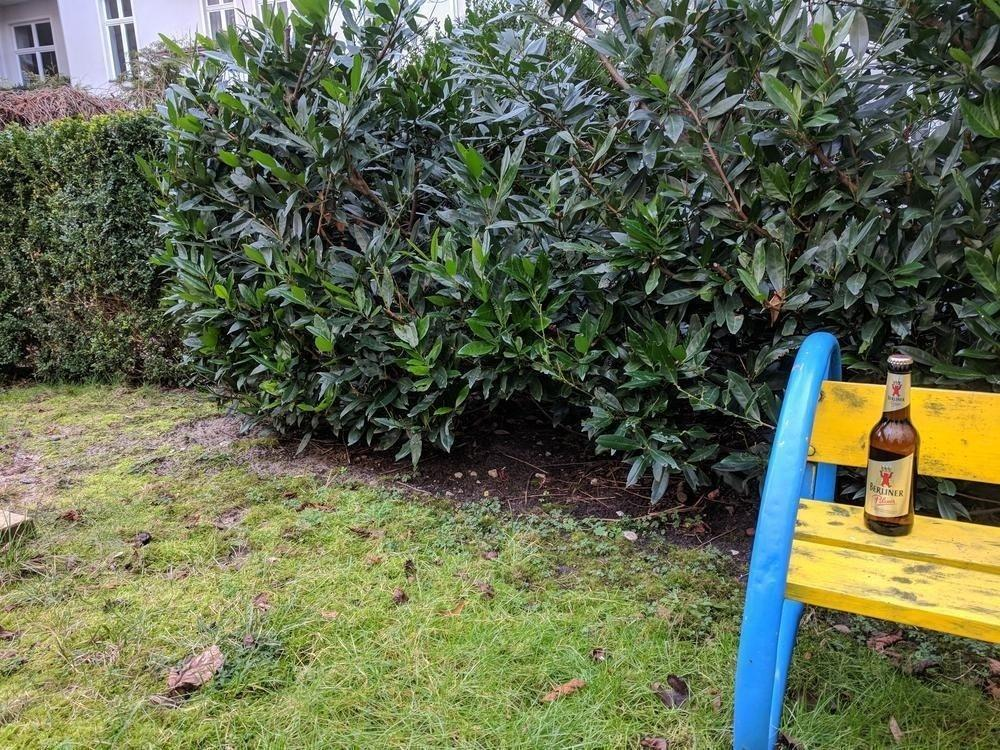bottle-glass: (862, 351, 922, 537)
